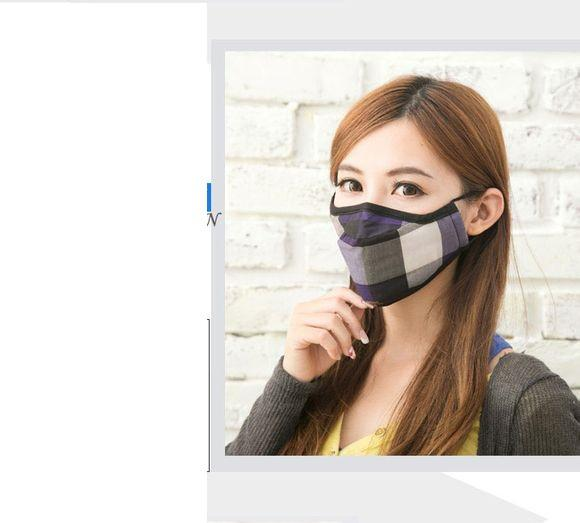OK: (329, 158, 479, 311)
